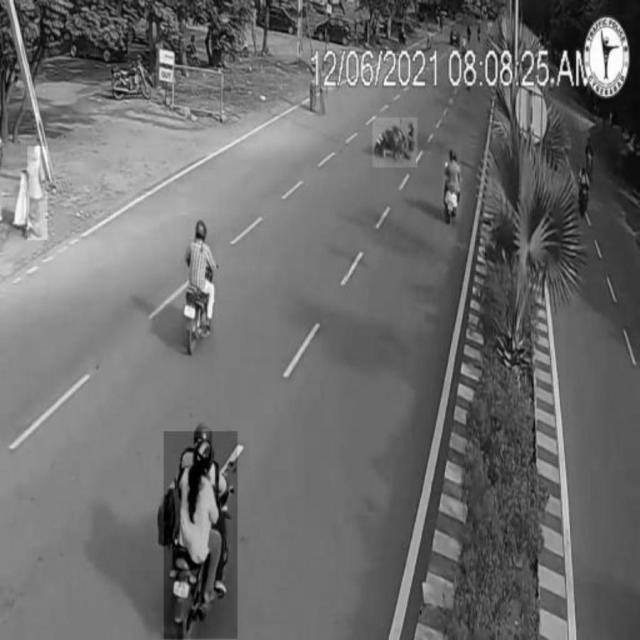accident: (372, 117, 417, 168)
person: (28, 147, 48, 240)
vehicle: (164, 432, 237, 639), (184, 219, 214, 355), (442, 146, 460, 222)
